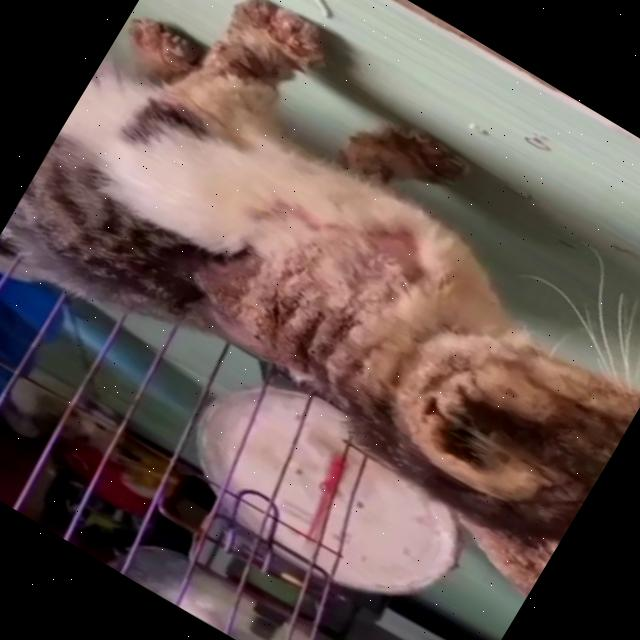cat-scabies: (388, 356, 569, 518), (230, 263, 370, 397), (214, 0, 342, 96), (448, 499, 557, 598), (370, 116, 472, 202), (111, 5, 208, 89)
